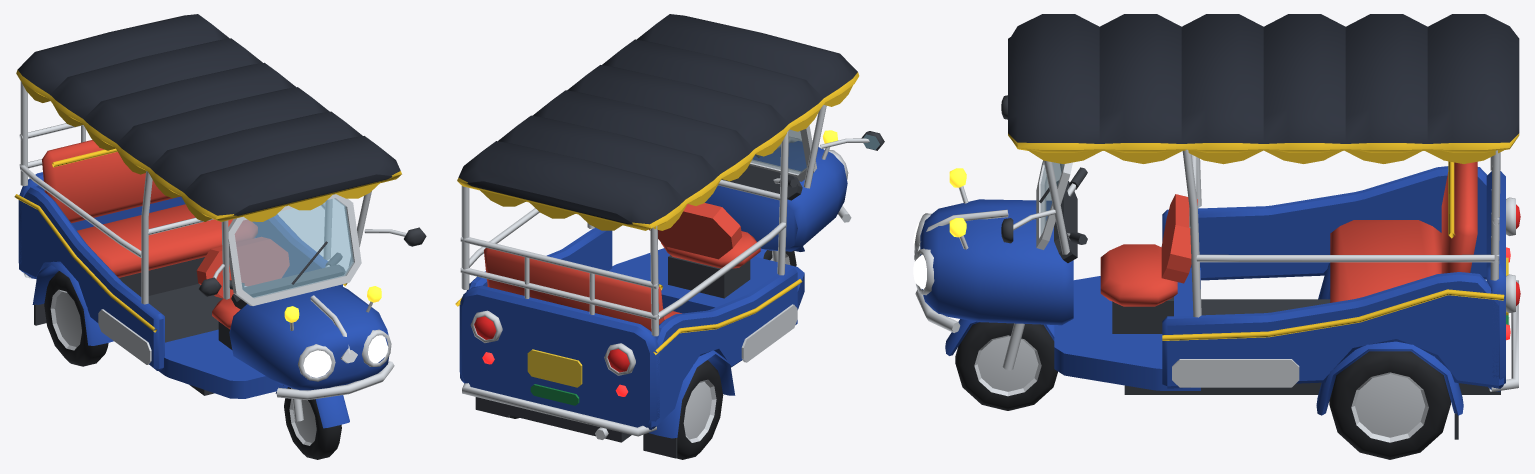
The model's file is veh_tuktuk.glb.
3 renders of one model, left to right at view 1: azimuth 30°, elevation 25°; view 2: azimuth 150°, elevation 25°; view 3: azimuth 270°, elevation 25°, orthographic. The views are drawn at different scales.
Visible parts, largest first — view 1: body, wheel_RR, wheel_F, head_lights, mirror_L; view 2: body, wheel_RR, brake_lights, mirror_R; view 3: body, wheel_RL, wheel_F.
Boxes of the visible parts, x1,y1,x2,y2 form: body: (14, 14, 401, 428); wheel_RR: (44, 271, 108, 366); wheel_F: (284, 387, 341, 459); head_lights: (303, 335, 388, 377); mirror_L: (364, 227, 426, 246); body: (455, 14, 859, 458); wheel_RR: (676, 360, 723, 459); brake_lights: (474, 316, 629, 372); mirror_R: (820, 131, 884, 150); body: (914, 14, 1519, 439); wheel_RL: (1329, 351, 1450, 459); wheel_F: (955, 322, 1057, 410).
Bounding box in the file's own units: 1.59 × 1.9 × 3.
